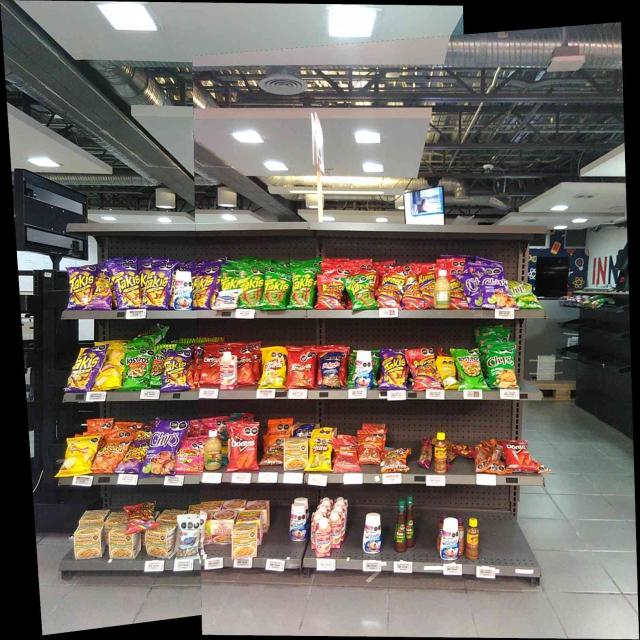bitzEnchilado90: (359, 431, 380, 463), (335, 442, 357, 471)
bitzEnchilado95: (476, 442, 503, 472)
bitzHabanero: (448, 440, 472, 459), (420, 437, 432, 468)
bokadosCacahuates: (322, 352, 339, 388)
botaneraChilito: (466, 519, 479, 559), (434, 432, 446, 473)
cheetosFlaminHot: (124, 442, 142, 472)
cheetosOriginal: (98, 440, 118, 472)
chipsFuego: (148, 419, 176, 473), (477, 266, 508, 308)
chipsJalapeno: (487, 347, 515, 387)
chipsPapatinas: (510, 281, 537, 307)
churrumais: (177, 438, 203, 473)
delPrimoSalsa: (204, 430, 222, 470), (436, 270, 450, 308)
doritosNacho: (230, 422, 257, 469), (506, 440, 532, 470), (238, 347, 253, 384)
fritosLimon: (263, 349, 284, 386), (310, 437, 331, 471)
leoCacahuates: (179, 515, 199, 560), (217, 290, 237, 308)
leoMix: (285, 438, 307, 471), (383, 449, 407, 472), (264, 436, 282, 464)
maruchanPollo: (74, 523, 103, 558), (109, 532, 142, 558), (232, 524, 258, 556), (146, 530, 176, 556)
nestleCarnation: (203, 344, 219, 384), (315, 517, 330, 557), (221, 353, 235, 389), (332, 512, 341, 549)
nestleLechera: (362, 512, 382, 552), (440, 518, 459, 560), (289, 503, 307, 541), (175, 270, 192, 310), (356, 350, 371, 387)
nissinRes: (211, 512, 232, 542)
rancheritos: (288, 349, 313, 387)
runners: (414, 348, 436, 388), (319, 276, 343, 309), (380, 272, 401, 306), (128, 502, 155, 528), (404, 271, 419, 306), (421, 270, 434, 308)
sabritasOriginal: (67, 438, 91, 474), (102, 356, 122, 389)
salsaBufalo: (395, 500, 405, 552), (407, 494, 414, 547)
semillasCalabaza: (440, 357, 456, 388)
takisFuego: (145, 264, 171, 309), (73, 346, 99, 390), (116, 264, 139, 308), (164, 352, 187, 389), (69, 267, 90, 306), (383, 350, 405, 387), (197, 265, 214, 309), (93, 278, 112, 308)
takisOriginal: (264, 274, 288, 308), (292, 269, 312, 309), (240, 268, 260, 307), (350, 276, 372, 310), (221, 268, 239, 290)
tostitos: (458, 348, 482, 389), (124, 350, 148, 388), (128, 324, 164, 344), (151, 347, 163, 385)
